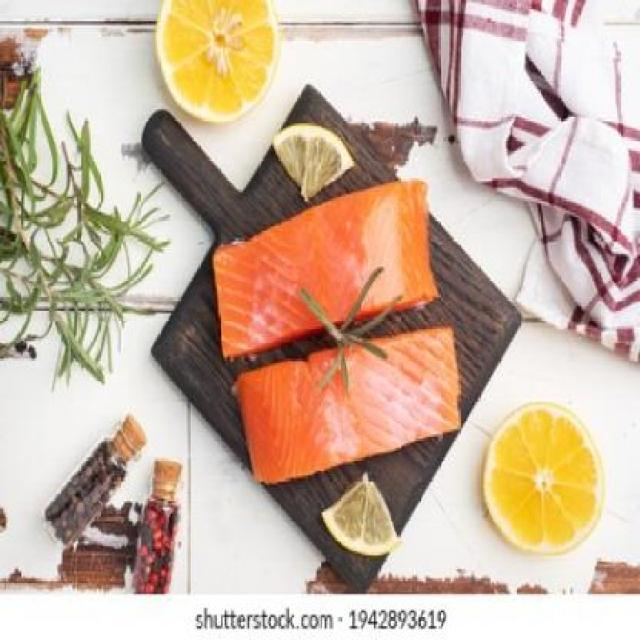salmon: (208, 174, 454, 371), (238, 323, 474, 479)
